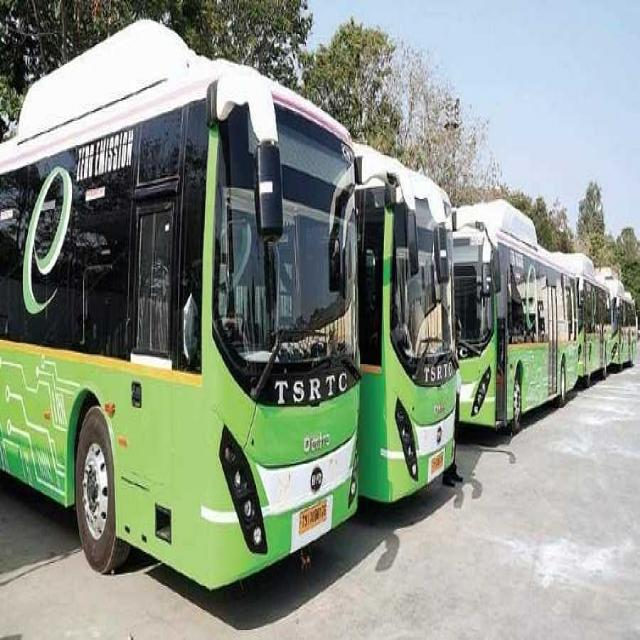BUS: (0, 36, 350, 586), (362, 135, 479, 572), (486, 170, 574, 574)
